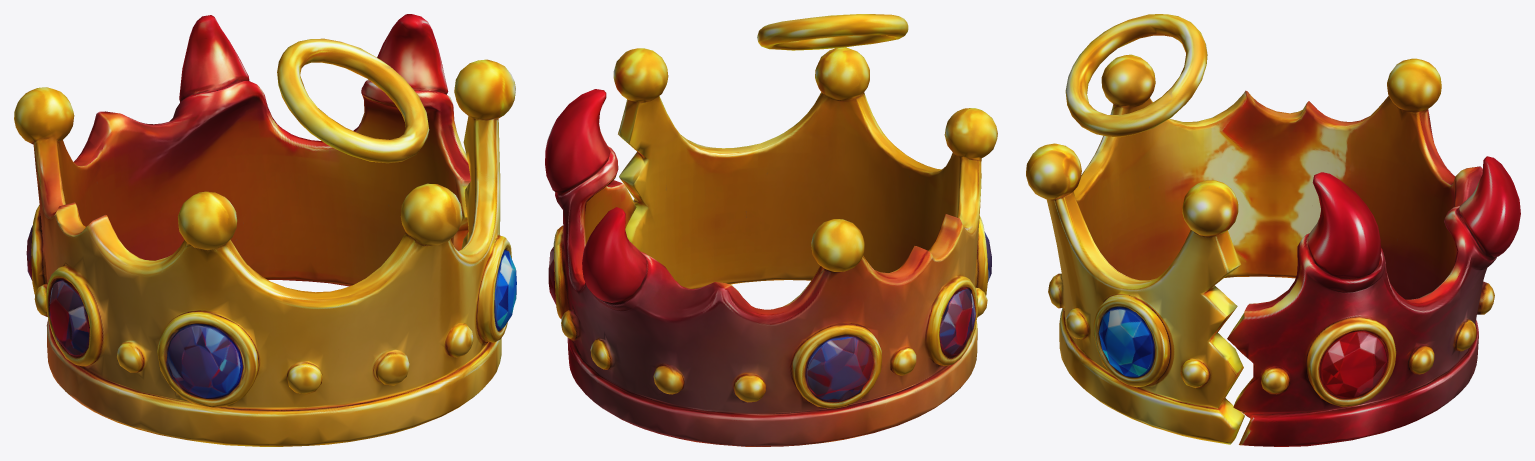
Rendered from Crown_Broken_B_raw.glb.
The picture shows the model from 3 angles, left to right: view 1: azimuth 30°, elevation 25°; view 2: azimuth 150°, elevation 25°; view 3: azimuth 270°, elevation 25°; orthographic projection. The views are drawn at different scales.
Visible parts, largest first — view 1: tripo_node_2bffe687-b787-4ac0-8866-93053f635ece; view 2: tripo_node_2bffe687-b787-4ac0-8866-93053f635ece; view 3: tripo_node_2bffe687-b787-4ac0-8866-93053f635ece.
Boxes of the visible parts, x1,y1,x2,y2 form: tripo_node_2bffe687-b787-4ac0-8866-93053f635ece: (14, 14, 516, 446); tripo_node_2bffe687-b787-4ac0-8866-93053f635ece: (545, 14, 997, 446); tripo_node_2bffe687-b787-4ac0-8866-93053f635ece: (1026, 14, 1520, 446).
Size of the model in its own units: 0.9096 by 0.7374 by 1.
Materials: 1 (1 with a texture image).
